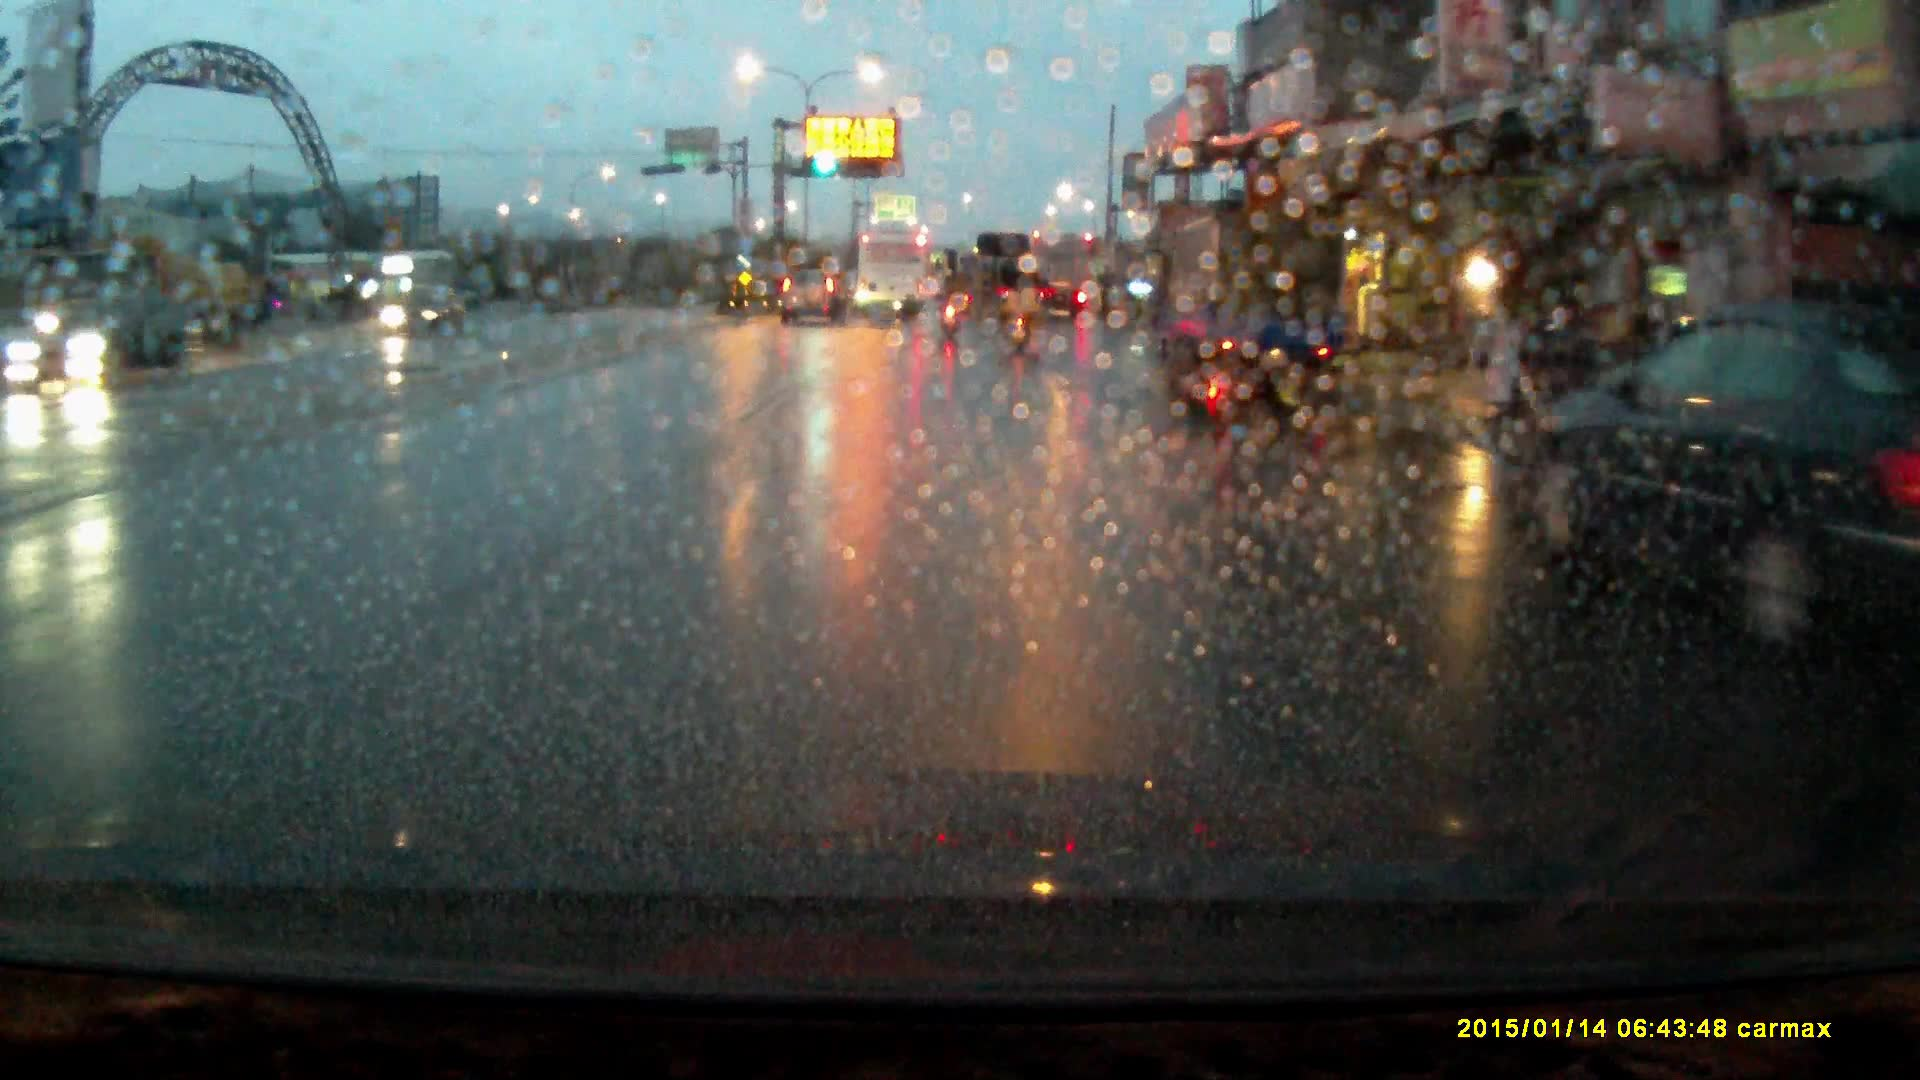rider: (1001, 276, 1040, 360), (932, 269, 965, 334)
vehicle: (1519, 307, 1920, 671), (1152, 217, 1352, 408), (39, 239, 260, 355), (36, 302, 188, 395), (973, 232, 1044, 324), (856, 233, 929, 321), (383, 283, 465, 341), (780, 267, 847, 327)
